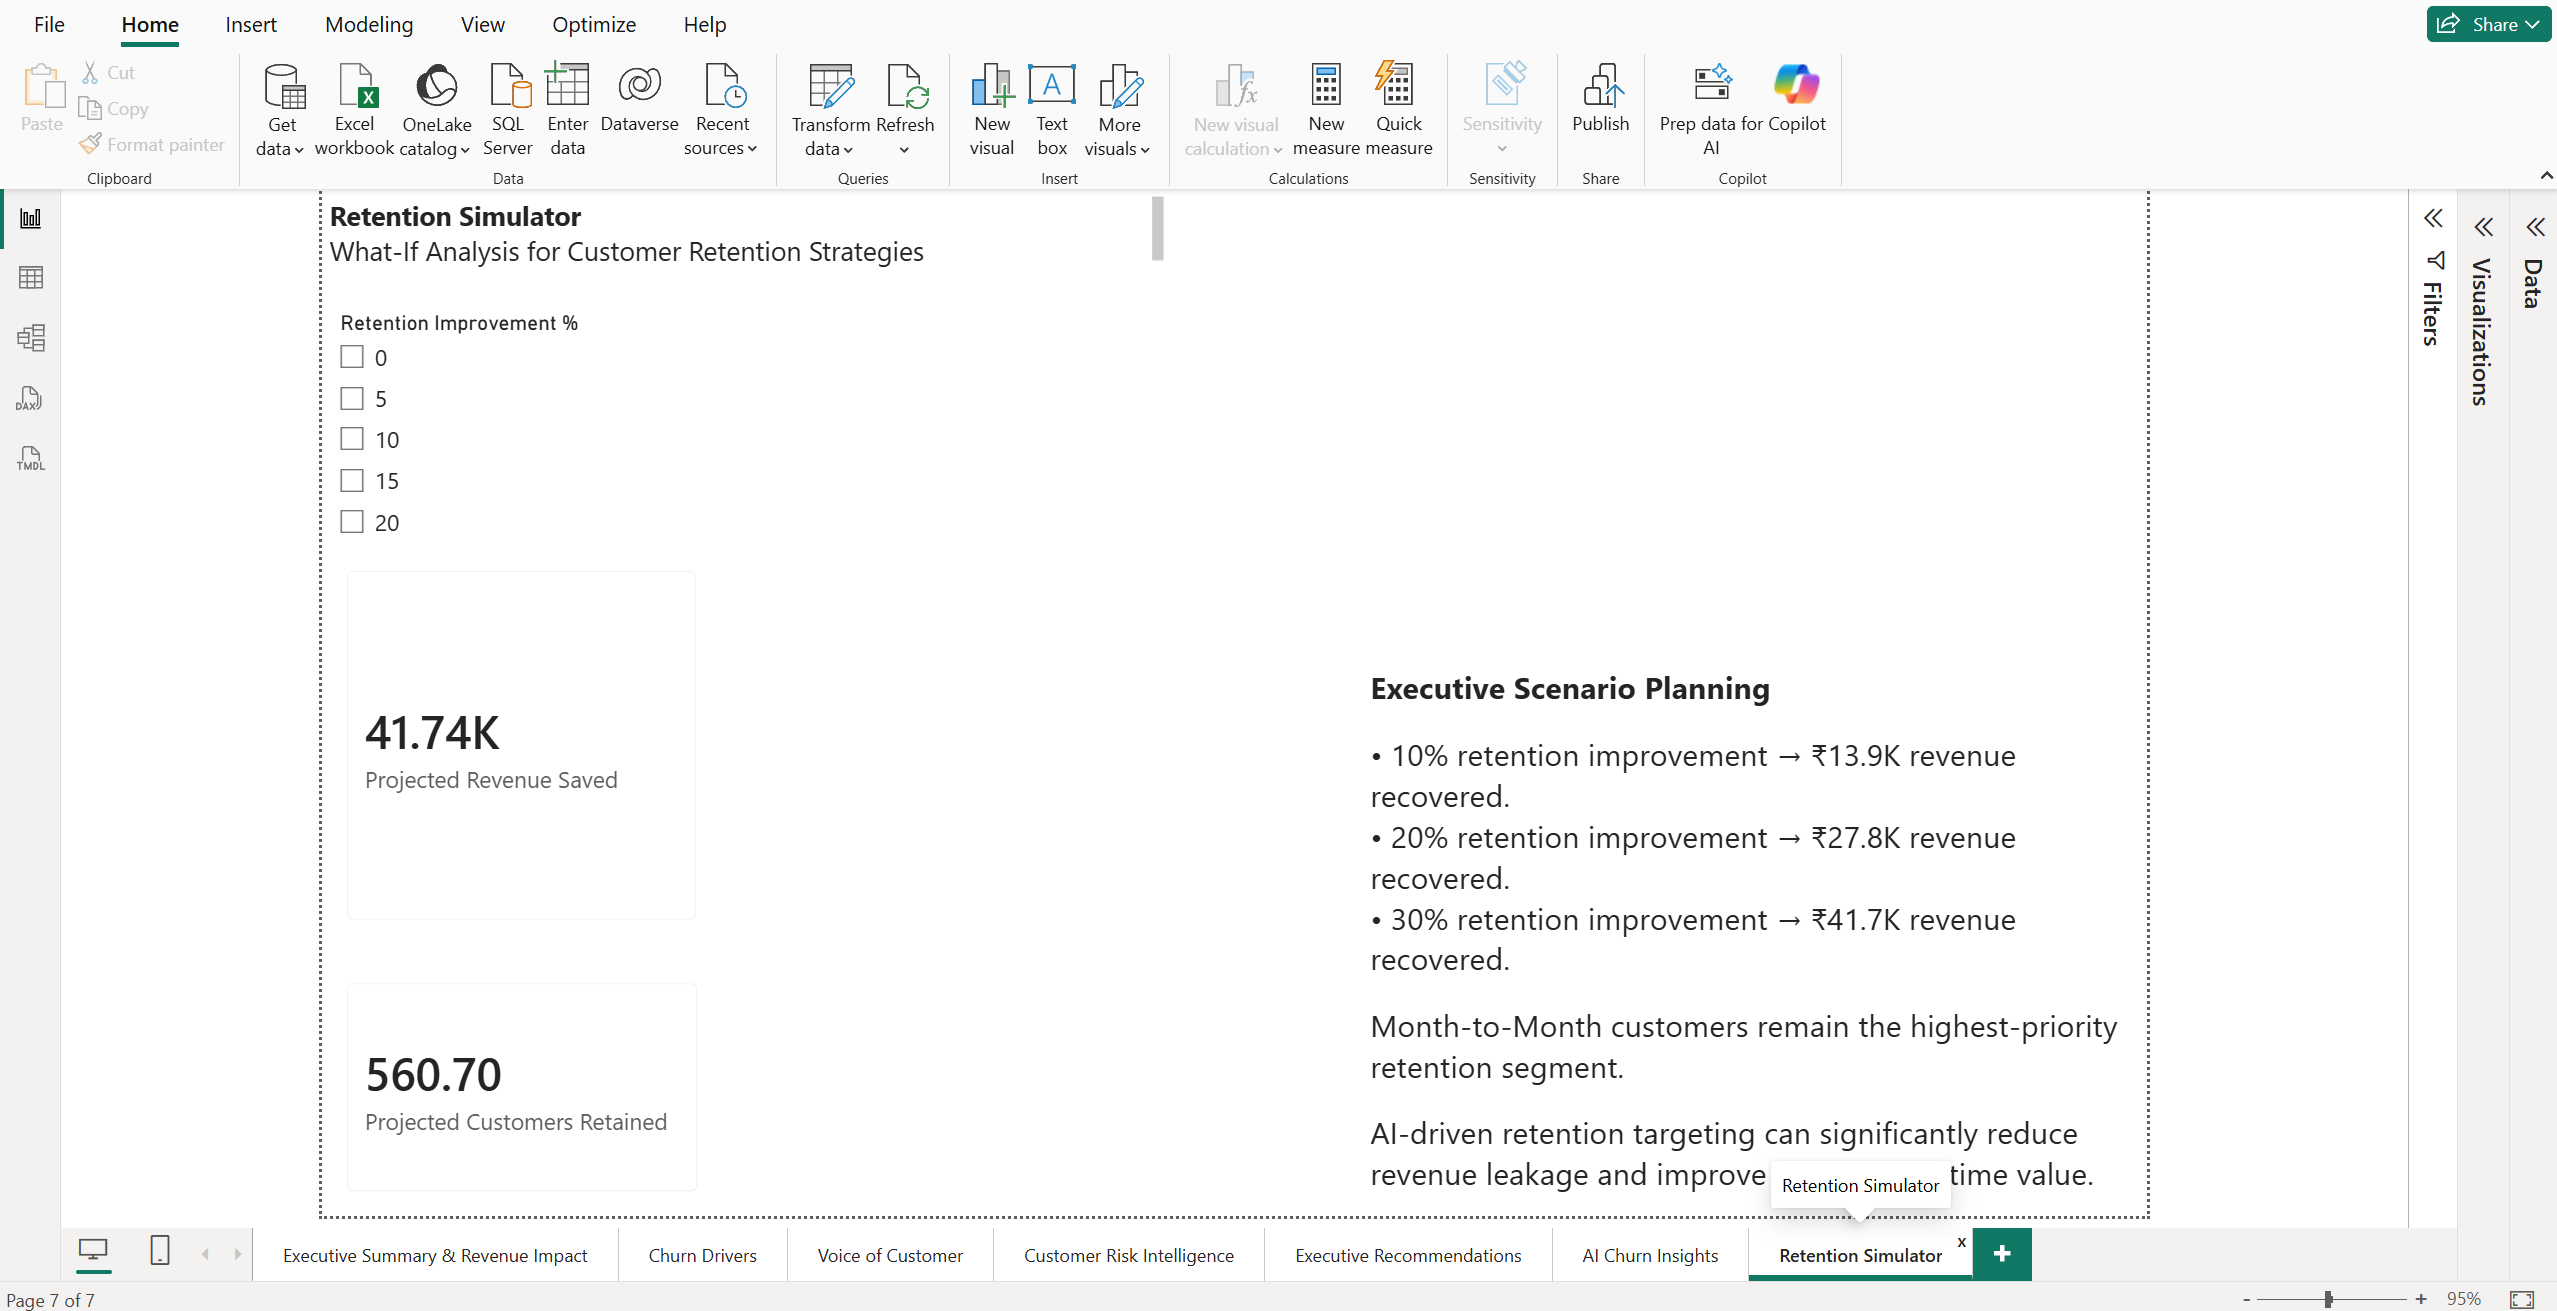

Layout of this report page (visuals, bound fields, positions):
{"tool":"powerbi","page":{"name":"Retention Simulator","canvas":[1280,720],"ordinal":6},"visuals":[{"type":"slicer","fields":{"Values":["Retention Improvement %.Retention Improvement %"]},"box":[0,79.9,279.8,279.8],"z":0},{"type":"cardVisual","fields":{"Data":["Retention Improvement %.Projected Revenue Saved"]},"box":[0,250.2,279.8,279.8],"z":1000},{"type":"cardVisual","fields":{"Data":["Retention Improvement %.Projected Customers Retained"]},"box":[0,540,280,180],"z":2000},{"type":"textbox","box":[0,0,595.1,65.1],"z":3000},{"type":"textbox","box":[729.8,328.6,550.7,390.8],"z":4000}]}

Visuals, with their boxes on the page's 1280x720 design canvas (x1, y1, x2, y2). These are canvas units, not pixel positions in the 2557x1311 screenshot, which may show the page scaled, cropped or inside an application window:
slicer - Retention Improvement %.Retention Improvement %: (0, 80, 280, 360)
cardVisual - Retention Improvement %.Projected Revenue Saved: (0, 250, 280, 530)
cardVisual - Retention Improvement %.Projected Customers Retained: (0, 540, 280, 720)
textbox: (0, 0, 595, 65)
textbox: (730, 329, 1280, 719)
